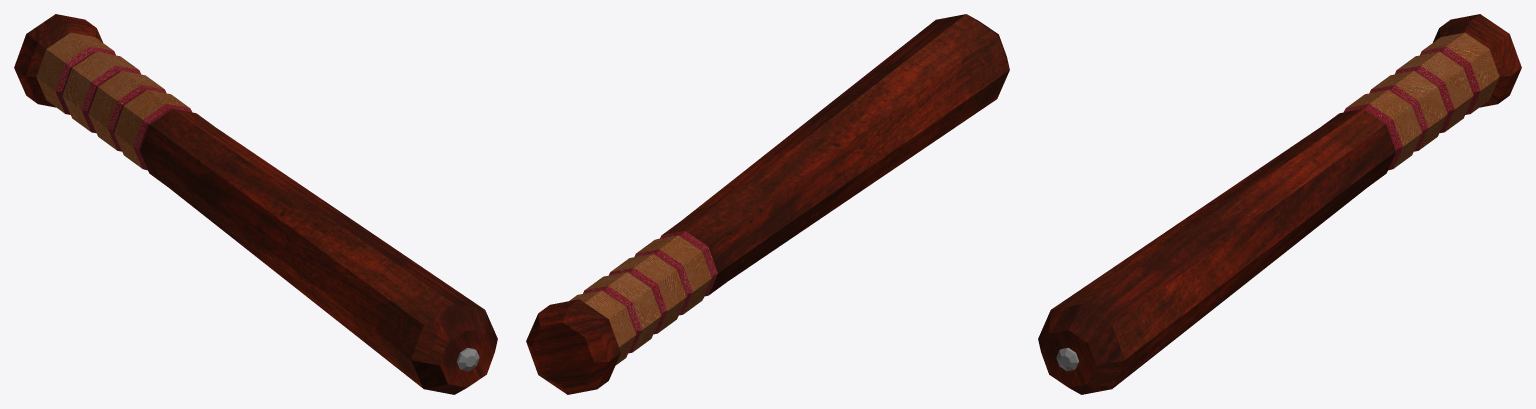
The model's file is WorldItem_FishKnocker.fbx.
The picture shows the model from 3 angles, left to right: view 1: azimuth 30°, elevation 25°; view 2: azimuth 150°, elevation 25°; view 3: azimuth 330°, elevation 25°; orthographic projection.
Visible parts, largest first — view 1: ZomboidFishKnocker; view 2: ZomboidFishKnocker; view 3: ZomboidFishKnocker.
Part boxes in pixels (bbox=[...]): ZomboidFishKnocker: bbox=[14, 14, 497, 394]; ZomboidFishKnocker: bbox=[526, 14, 1009, 394]; ZomboidFishKnocker: bbox=[1038, 14, 1521, 394].
Bounding box in the file's own units: 0.0319 × 0.0319 × 0.2669.
